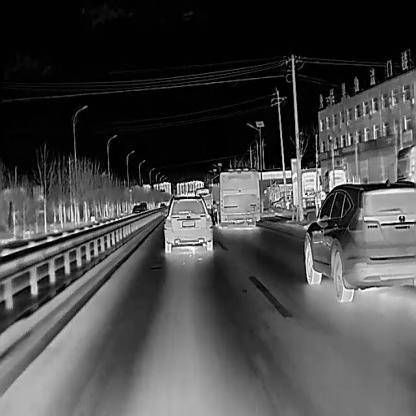car: (303, 177, 415, 302), (162, 192, 212, 253), (209, 167, 259, 227), (301, 170, 324, 209), (397, 145, 415, 185), (325, 168, 347, 193), (273, 194, 294, 209), (131, 203, 143, 217)
